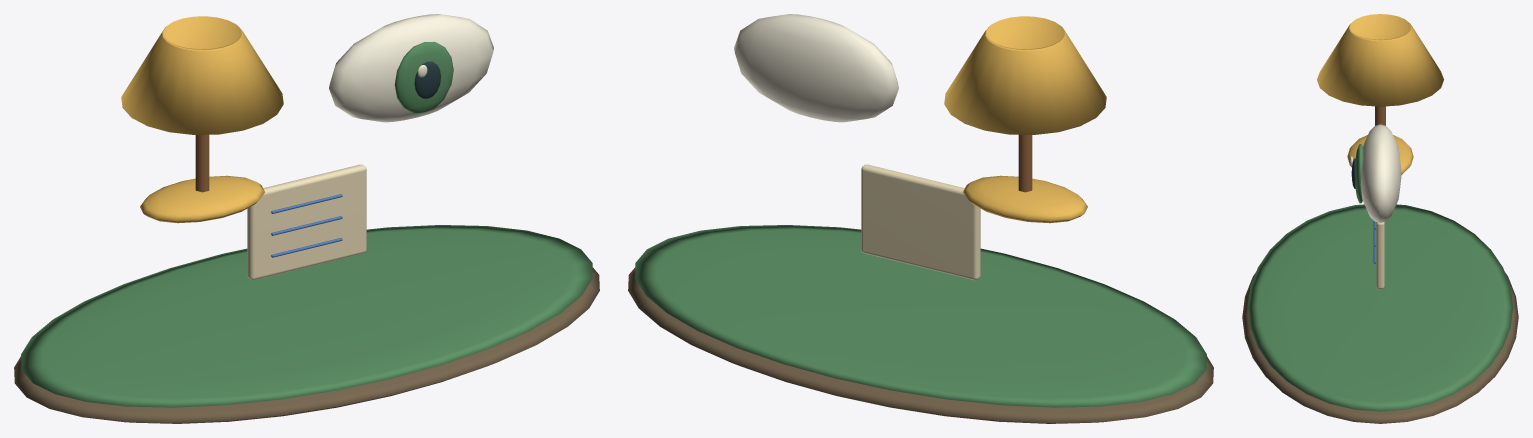
File: complete-second-idea-seeing.glb
3 renders of one model, left to right at view 1: azimuth 30°, elevation 25°; view 2: azimuth 150°, elevation 25°; view 3: azimuth 270°, elevation 25°, orthographic. The views are drawn at different scales.
Visible parts, largest first — view 1: complete-second-idea-seeing_surface_01, complete-second-idea-seeing_surface_02, complete-second-idea-seeing_surface_00, complete-second-idea-seeing_surface_04, complete-second-idea-seeing_surface_06, complete-second-idea-seeing_surface_03, complete-second-idea-seeing_surface_07, complete-second-idea-seeing_surface_05; view 2: complete-second-idea-seeing_surface_01, complete-second-idea-seeing_surface_02, complete-second-idea-seeing_surface_04, complete-second-idea-seeing_surface_06, complete-second-idea-seeing_surface_00, complete-second-idea-seeing_surface_03; view 3: complete-second-idea-seeing_surface_01, complete-second-idea-seeing_surface_02, complete-second-idea-seeing_surface_00, complete-second-idea-seeing_surface_04, complete-second-idea-seeing_surface_06.
Part boxes in pixels (x1=…): complete-second-idea-seeing_surface_01: x1=21, y1=42, x2=592, y2=407; complete-second-idea-seeing_surface_02: x1=121, y1=16, x2=283, y2=223; complete-second-idea-seeing_surface_00: x1=14, y1=267, x2=599, y2=423; complete-second-idea-seeing_surface_04: x1=329, y1=14, x2=493, y2=122; complete-second-idea-seeing_surface_06: x1=247, y1=164, x2=366, y2=280; complete-second-idea-seeing_surface_03: x1=195, y1=134, x2=209, y2=192; complete-second-idea-seeing_surface_07: x1=271, y1=194, x2=342, y2=257; complete-second-idea-seeing_surface_05: x1=414, y1=61, x2=440, y2=98; complete-second-idea-seeing_surface_01: x1=635, y1=225, x2=1206, y2=407; complete-second-idea-seeing_surface_02: x1=944, y1=16, x2=1106, y2=223; complete-second-idea-seeing_surface_04: x1=734, y1=14, x2=898, y2=122; complete-second-idea-seeing_surface_06: x1=861, y1=164, x2=980, y2=280; complete-second-idea-seeing_surface_00: x1=628, y1=267, x2=1213, y2=423; complete-second-idea-seeing_surface_03: x1=1018, y1=134, x2=1032, y2=192; complete-second-idea-seeing_surface_01: x1=1247, y1=144, x2=1513, y2=411; complete-second-idea-seeing_surface_02: x1=1317, y1=14, x2=1443, y2=174; complete-second-idea-seeing_surface_00: x1=1242, y1=272, x2=1518, y2=423; complete-second-idea-seeing_surface_04: x1=1350, y1=124, x2=1401, y2=222; complete-second-idea-seeing_surface_06: x1=1376, y1=222, x2=1384, y2=289.
Bounding box in the file's own units: 4.56 × 2.63 × 2.5.
